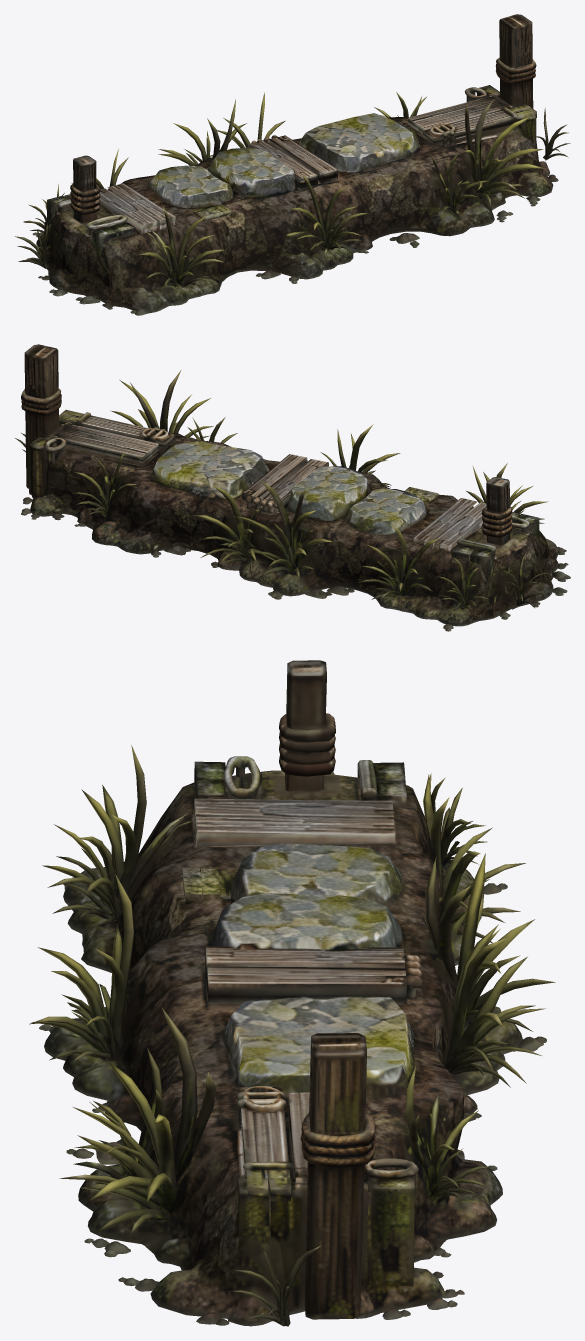
Rendered from act1_kit_v1_causeway.glb.
3 views of the same model, one above another, from view 1: azimuth 30°, elevation 25°; view 2: azimuth 150°, elevation 25°; view 3: azimuth 270°, elevation 25° (orthographic). The views are drawn at different scales.
Parts seen in each view (by area): view 1: act1_kit_v1_causeway; view 2: act1_kit_v1_causeway; view 3: act1_kit_v1_causeway.
Part boxes in pixels (x1,y1,x2,y2): act1_kit_v1_causeway: [15, 14, 570, 315]; act1_kit_v1_causeway: [15, 344, 570, 631]; act1_kit_v1_causeway: [29, 660, 555, 1326].
Bounding box in the file's own units: 1 × 0.2426 × 0.428.
Materials: 1 (1 with a texture image).
